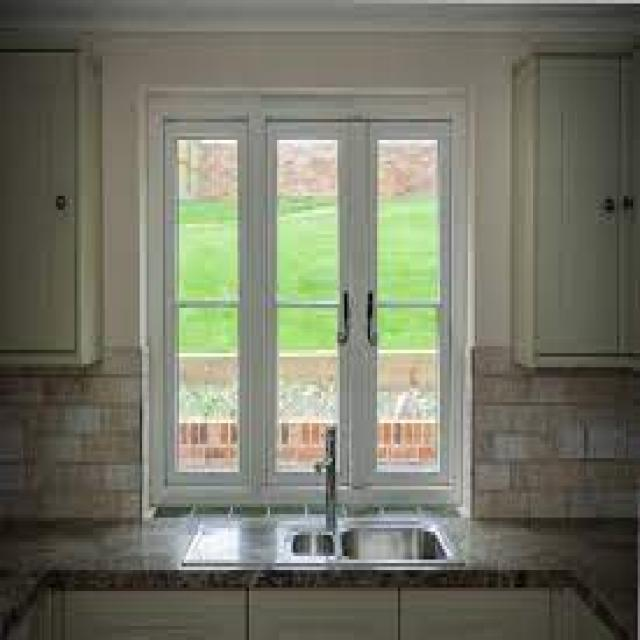Window: (144, 79, 462, 504)
